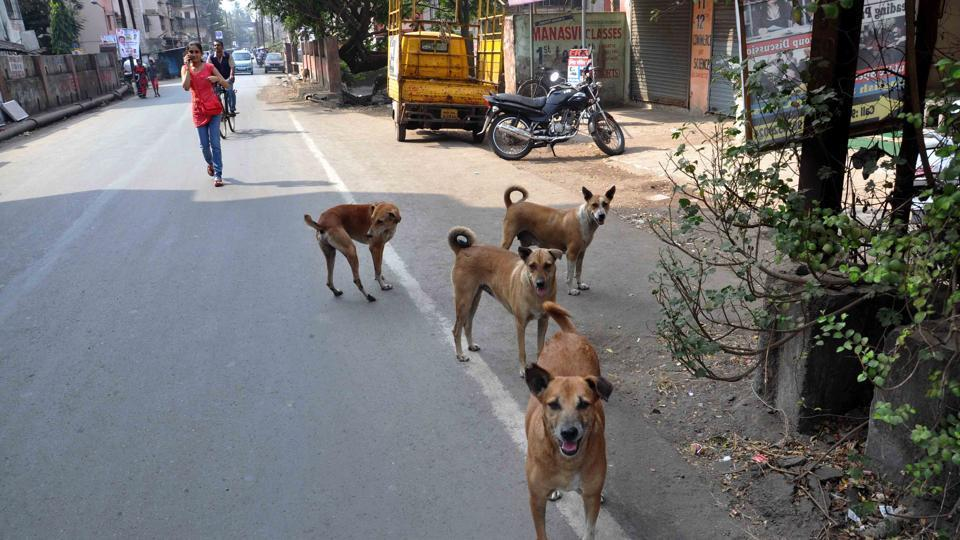dog_aggressive: (515, 305, 623, 540)
normal_dogs: (438, 216, 556, 375), (502, 178, 622, 298), (299, 196, 409, 308)
